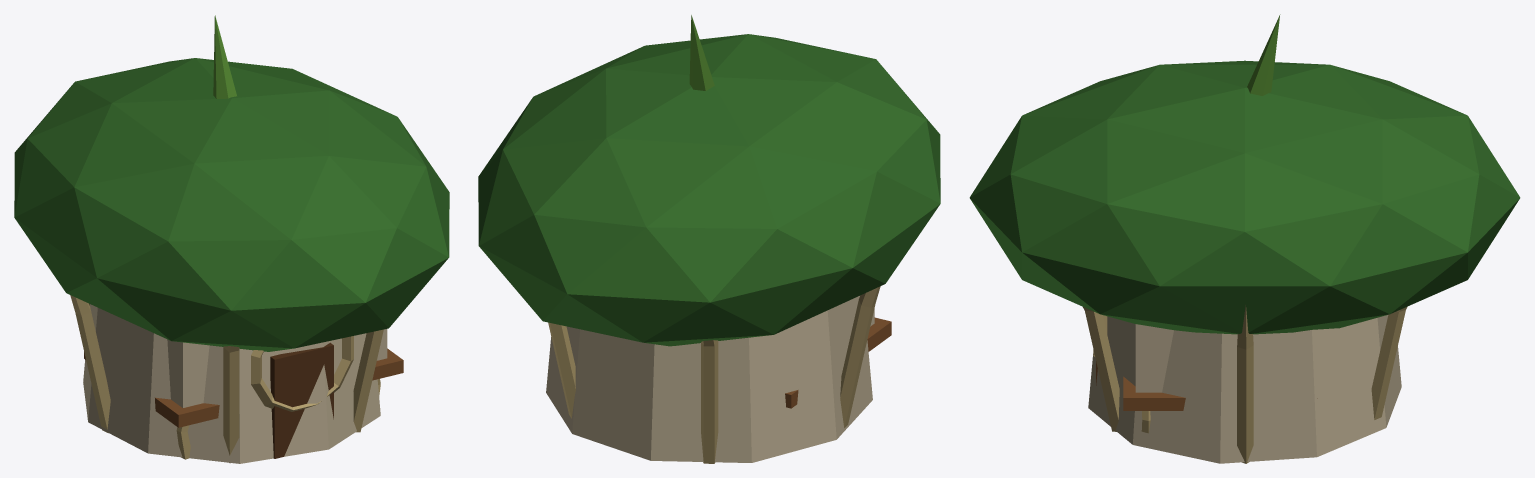
Rendered from elf_hall.glb.
3 renders of one model, left to right at view 1: azimuth 30°, elevation 25°; view 2: azimuth 150°, elevation 25°; view 3: azimuth 270°, elevation 25°, orthographic. The views are drawn at different scales.
Visible parts, largest first — view 1: elf_hall; view 2: elf_hall; view 3: elf_hall.
Boxes of the visible parts, x1,y1,x2,y2 form: elf_hall: [14, 15, 449, 463]; elf_hall: [478, 15, 940, 463]; elf_hall: [969, 14, 1520, 463].
Size of the model in its own units: 2.41 by 2.45 by 3.17.
